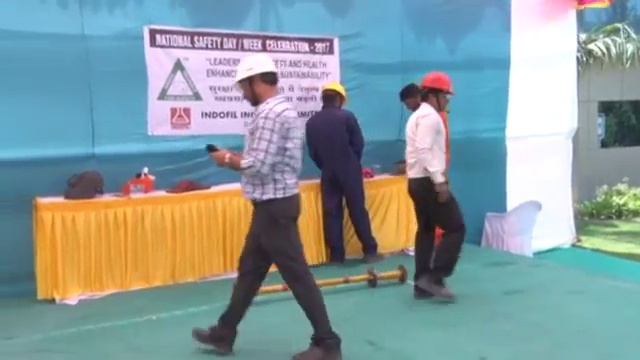helmet: (230, 54, 280, 83), (421, 70, 457, 96), (320, 79, 348, 102)
helmet_off: (399, 82, 422, 111)
helmet_on: (229, 53, 282, 108), (418, 70, 457, 114), (318, 79, 348, 111)
person: (192, 52, 343, 360), (402, 70, 467, 303), (307, 79, 387, 264)
